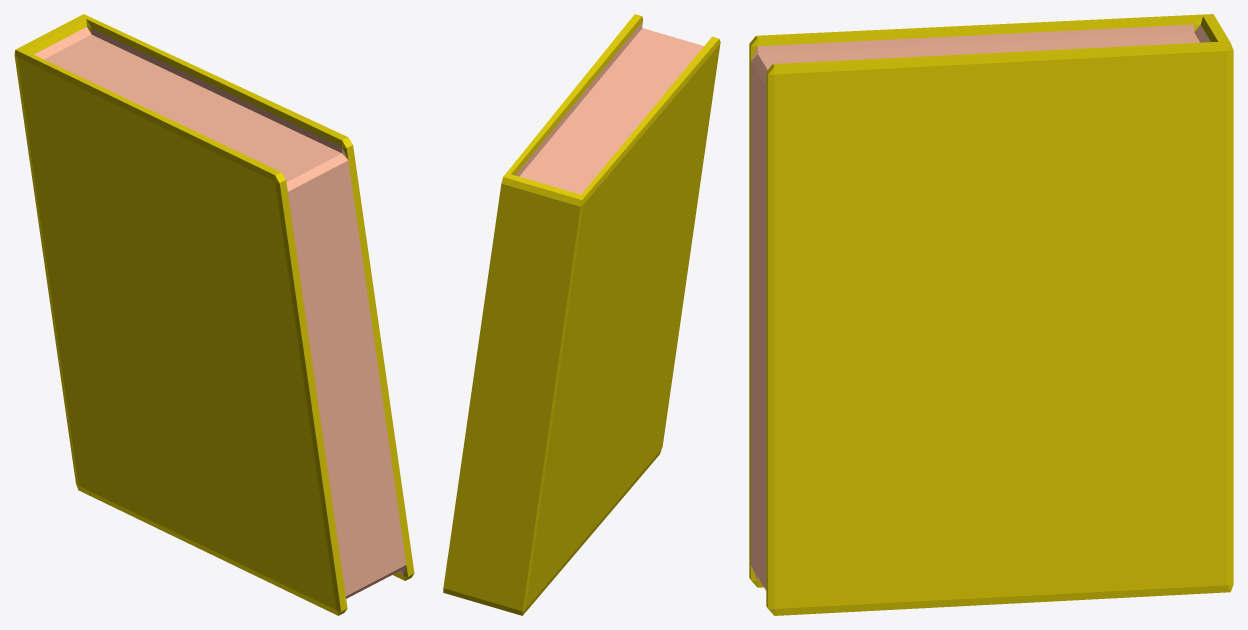
The picture shows the model from 3 angles, left to right: view 1: azimuth 30°, elevation 25°; view 2: azimuth 150°, elevation 25°; view 3: azimuth 270°, elevation 25°; orthographic projection. The views are drawn at different scales.
Parts seen in each view (by area): view 1: Cube_008; view 2: Cube_008; view 3: Cube_008.
Boxes of the visible parts, x1,y1,x2,y2 form: Cube_008: (14, 14, 414, 615); Cube_008: (443, 14, 720, 615); Cube_008: (749, 14, 1233, 615).
Size of the model in its own units: 0.3661 by 0.8263 by 0.6733.
